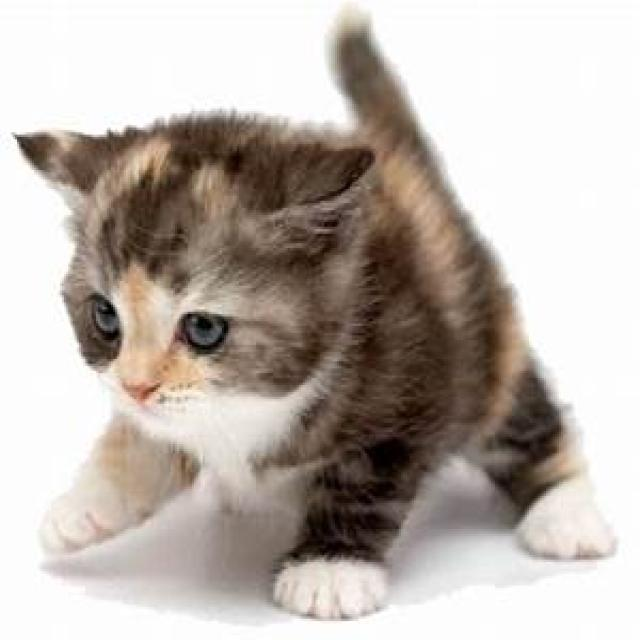KEDI: (8, 19, 616, 607)
